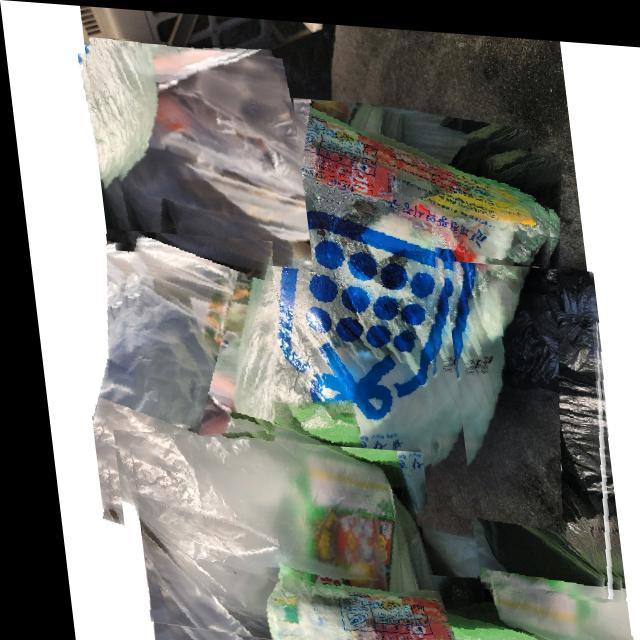general_trashbag: (209, 90, 547, 501), (267, 579, 547, 640)
other_trashbag: (103, 431, 423, 640), (84, 236, 265, 492), (459, 259, 591, 583), (113, 46, 304, 255)
